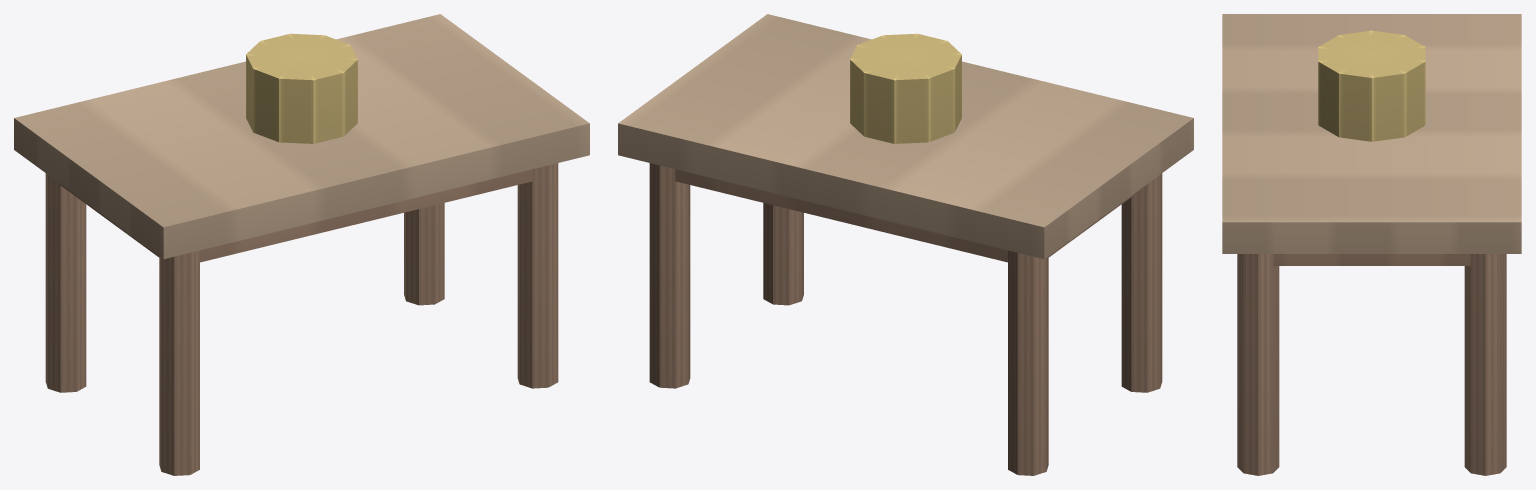
The model's file is school_desk.glb.
3 renders of one model, left to right at view 1: azimuth 30°, elevation 25°; view 2: azimuth 150°, elevation 25°; view 3: azimuth 270°, elevation 25°, orthographic.
Parts seen in each view (by area): view 1: school_desk; view 2: school_desk; view 3: school_desk.
Boxes of the visible parts, <box> form: school_desk: <box>14,14,589,475</box>; school_desk: <box>618,14,1193,475</box>; school_desk: <box>1222,14,1521,475</box>.
Bounding box in the file's own units: 1.4 × 1.02 × 0.85.
1 material, 1 textured.
